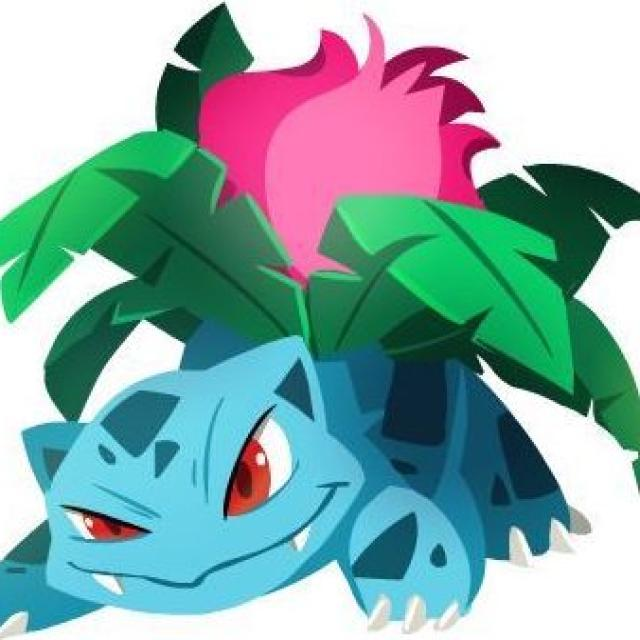Ivysaur: (41, 41, 516, 612)
